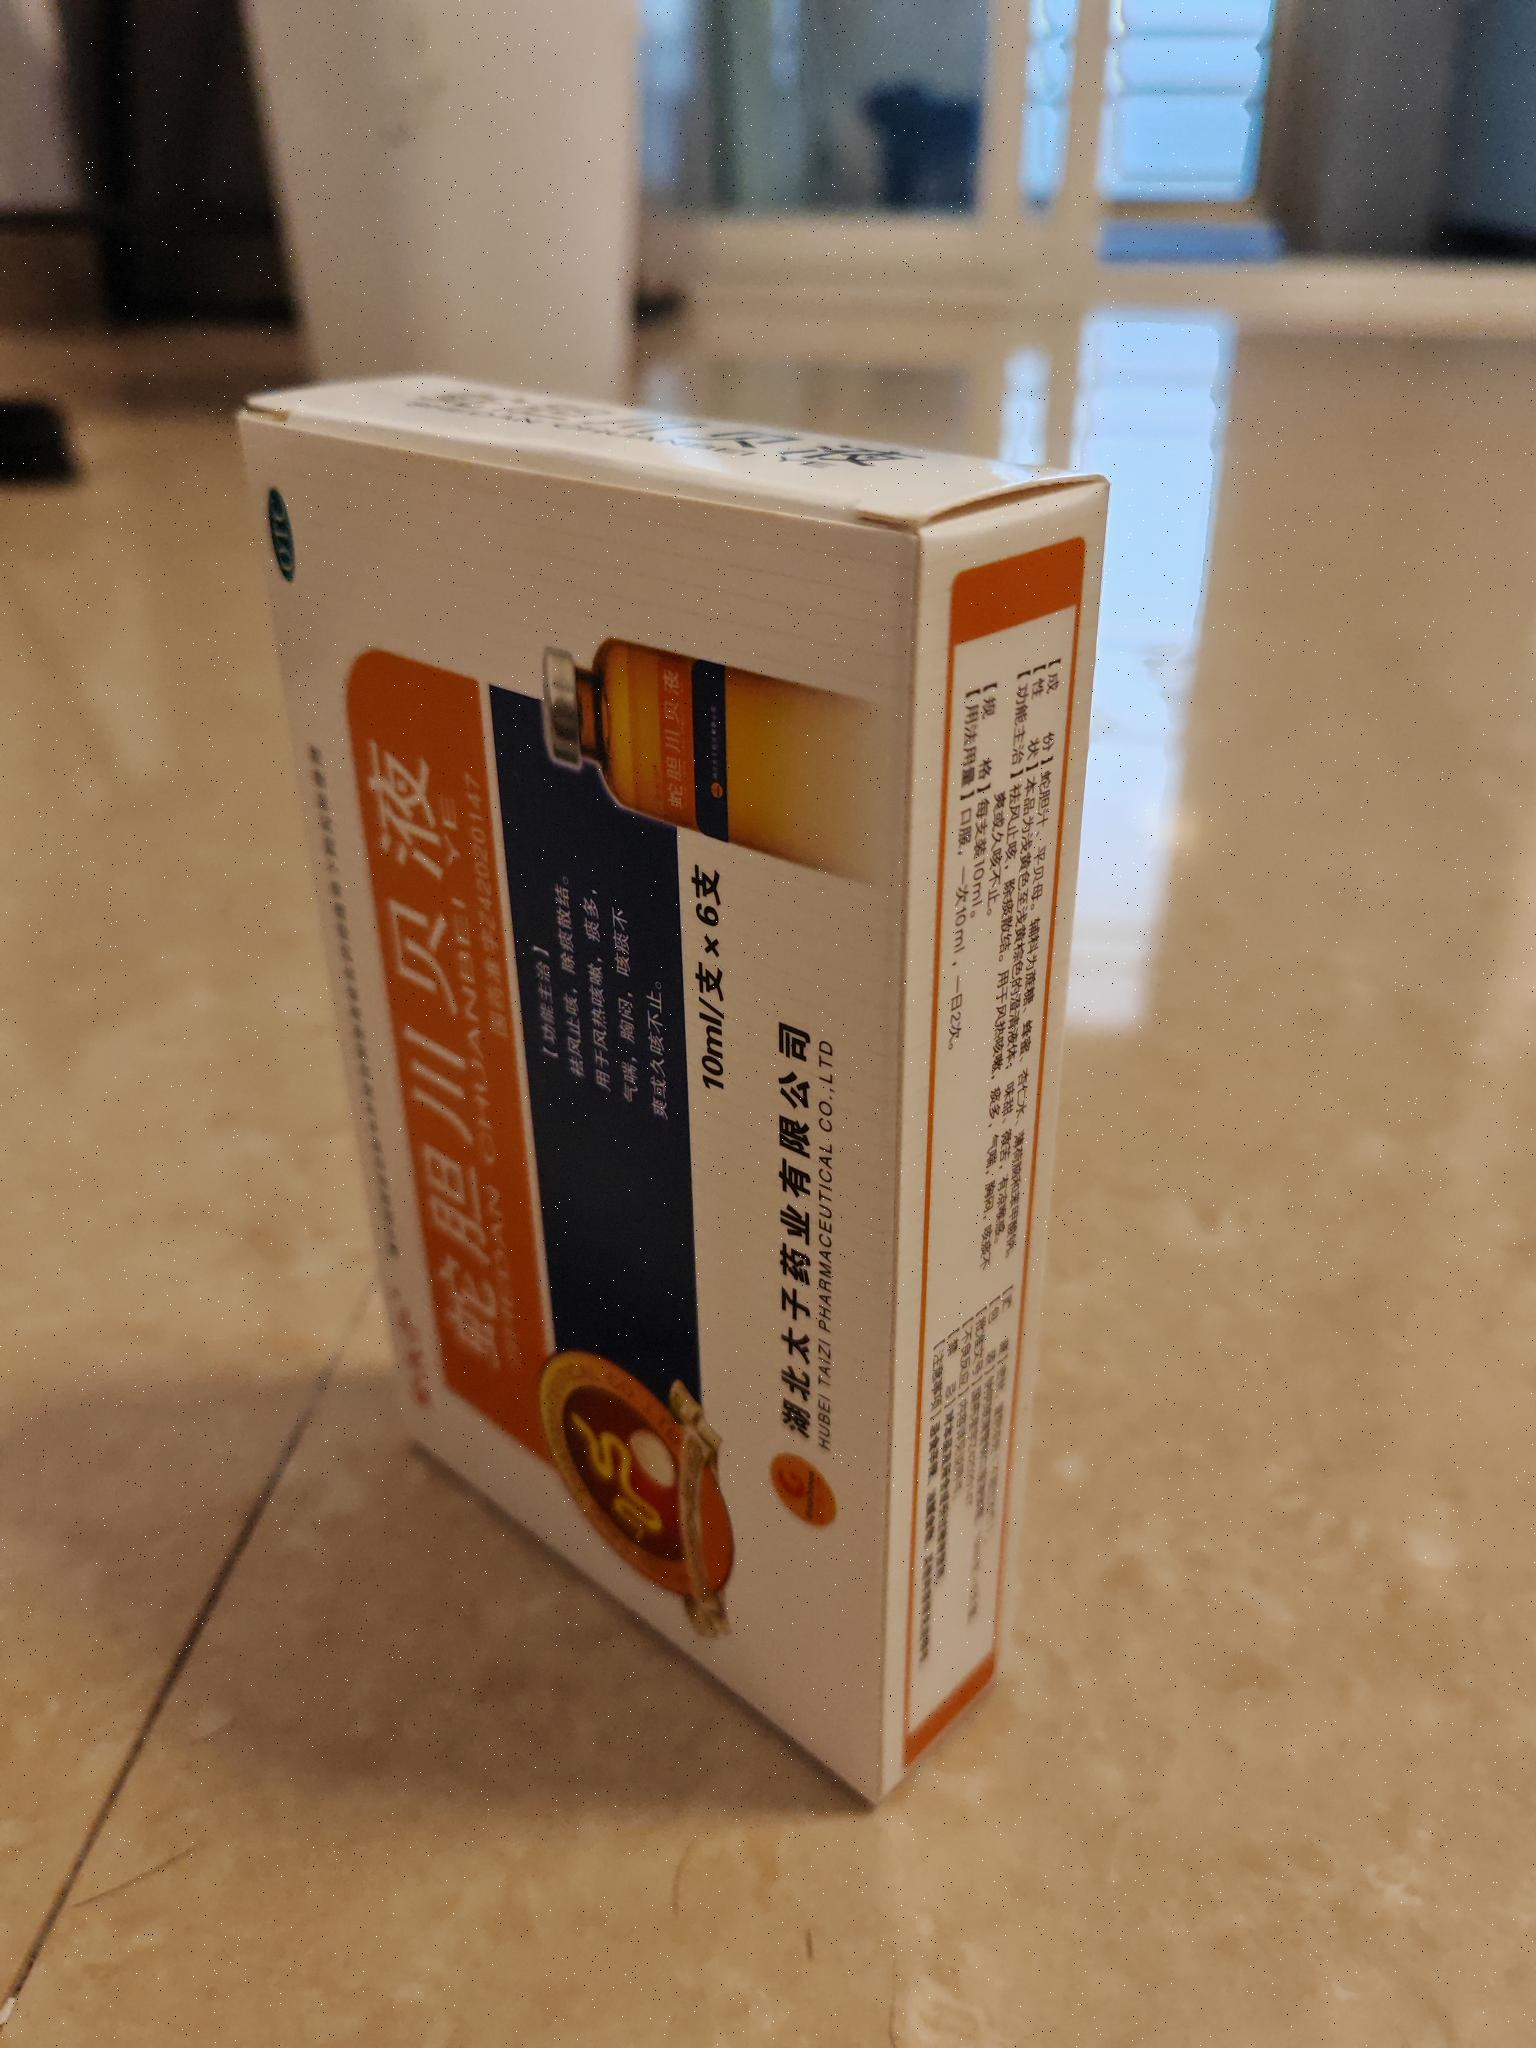Medicine5: (213, 343, 1129, 1834)
